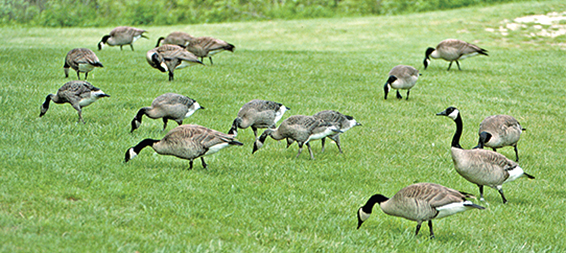goose: (436, 106, 537, 206), (356, 182, 487, 244), (123, 127, 248, 173), (38, 80, 112, 125), (381, 64, 422, 105), (97, 26, 149, 51)
